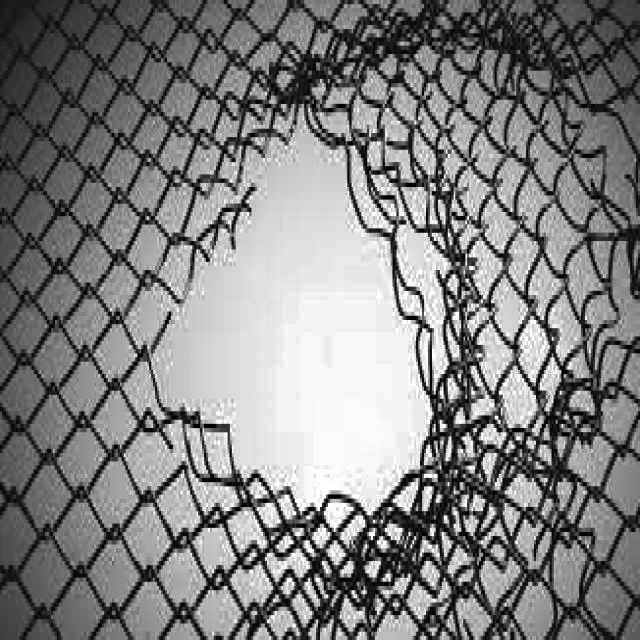anomaly-fence: (140, 4, 640, 639)
